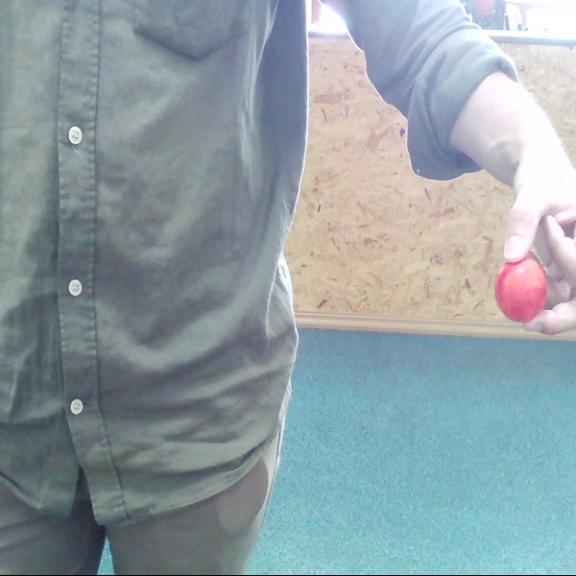ball: (494, 253, 549, 328)
